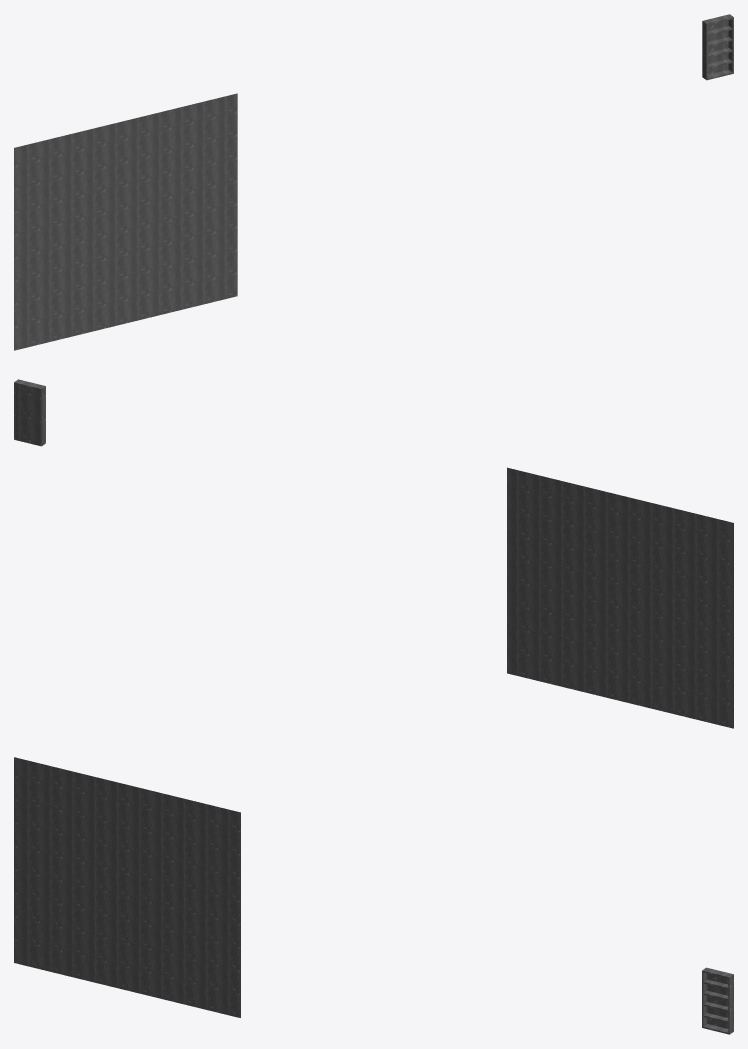
3 renders of one model, top to bottom at view 1: azimuth 30°, elevation 25°; view 2: azimuth 150°, elevation 25°; view 3: azimuth 330°, elevation 25°, orthographic.
Size of the model in its own units: 9.9 by 2.69 by 0.18.
1 material, 1 textured.
